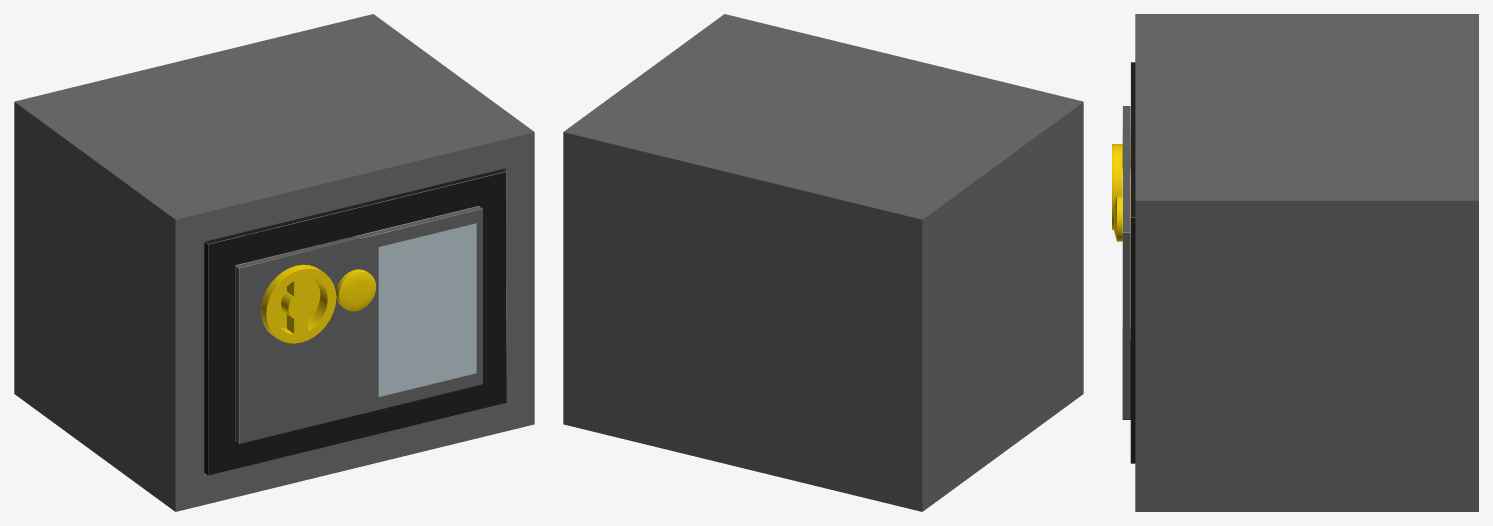
Rendered from SM_Env_Safe.fbx.
3 renders of one model, left to right at view 1: azimuth 30°, elevation 25°; view 2: azimuth 150°, elevation 25°; view 3: azimuth 270°, elevation 25°, orthographic. The views are drawn at different scales.
Visible parts, largest first — view 1: Safe, Door; view 2: Safe; view 3: Safe, Door.
Part boxes in pixels (box(x1,y1,x2,y2)): Safe: box(14, 14, 534, 511); Door: box(204, 169, 506, 475); Safe: box(563, 14, 1083, 511); Safe: box(1135, 14, 1478, 511); Door: box(1112, 62, 1135, 463).
Size of the model in its own units: 0.2286 by 0.1778 by 0.1899.
